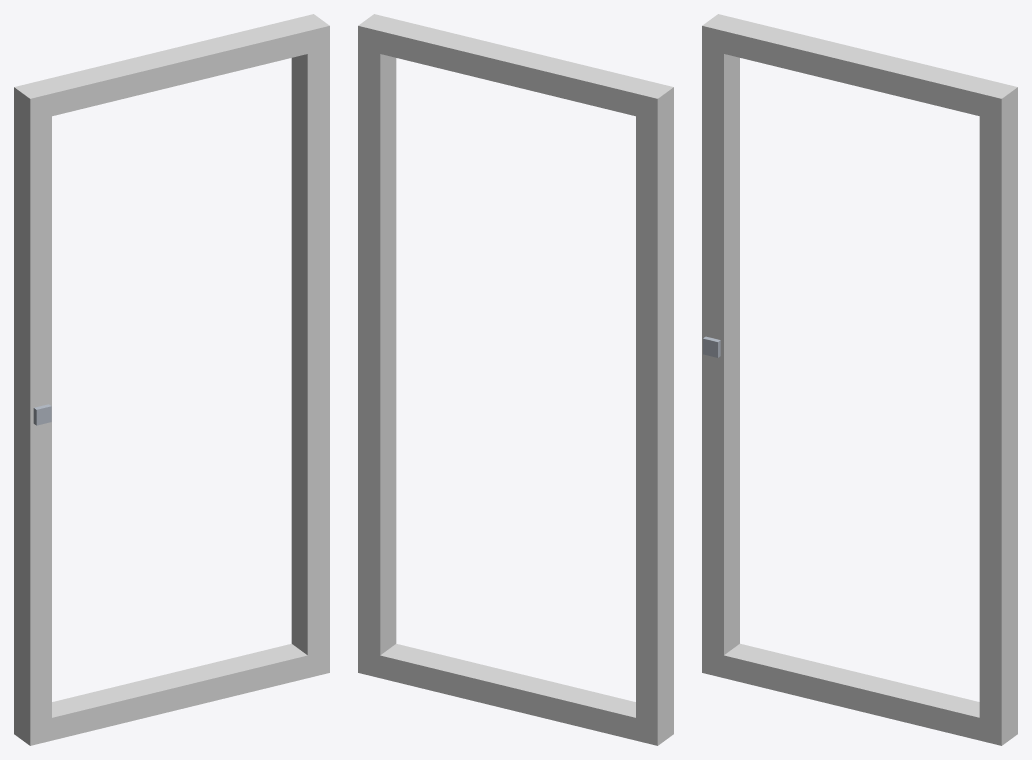
Rendered from Window5_02_2.fbx.
3 views of the same model, side by side, from view 1: azimuth 30°, elevation 25°; view 2: azimuth 150°, elevation 25°; view 3: azimuth 330°, elevation 25° (orthographic).
Visible parts, largest first — view 1: Window5_02_2; view 2: Window5_02_2; view 3: Window5_02_2.
Boxes of the visible parts, box(x1,y1,x2,y2) form: Window5_02_2: box(14, 14, 329, 745); Window5_02_2: box(358, 14, 673, 745); Window5_02_2: box(702, 14, 1017, 745).
Bounding box in the file's own units: 55.1 × 114 × 6.01.
